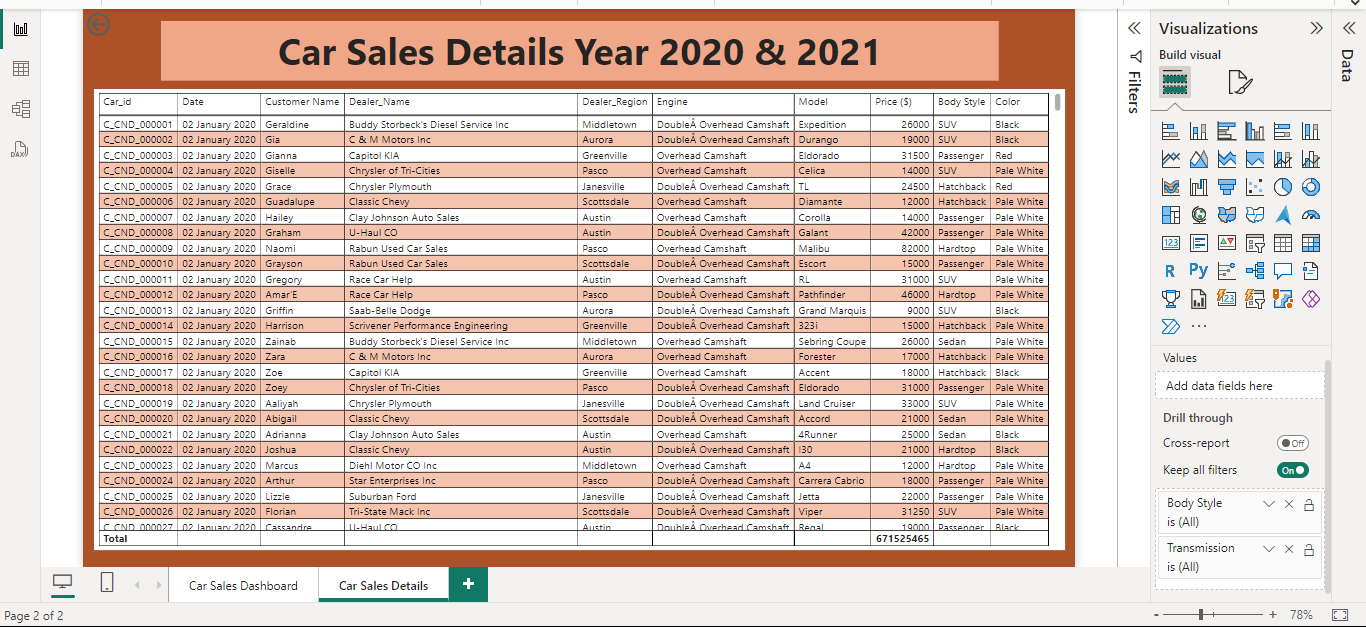

The dashboard page shown, as its layout file describes it:
{"tool":"powerbi","page":{"name":"Car Sales Details","canvas":[1280,720],"ordinal":1},"visuals":[{"type":"tableEx","fields":{"Values":["Car Sales.Car_id","Car Sales.Date","Car Sales.Customer Name","Car Sales.Dealer_Name","Car Sales.Dealer_Region","Car Sales.Engine","Car Sales.Model","Car Sales.Price ($)","Car Sales.Body Style","Car Sales.Color"]},"box":[14.2,103.5,1252.9,595.3],"z":0},{"type":"textbox","box":[100.6,15.6,1081.4,76.5],"z":1000},{"type":"actionButton","box":[0,0,100.6,39.7],"z":2000}]}

Visuals, with their boxes on the page's 1280x720 design canvas (x1, y1, x2, y2). These are canvas units, not pixel positions in the 1366x627 screenshot, which may show the page scaled, cropped or inside an application window:
tableEx - Car Sales.Car_id x Car Sales.Date: crop(14, 104, 1267, 699)
textbox: crop(101, 16, 1182, 92)
actionButton: crop(0, 0, 101, 40)
